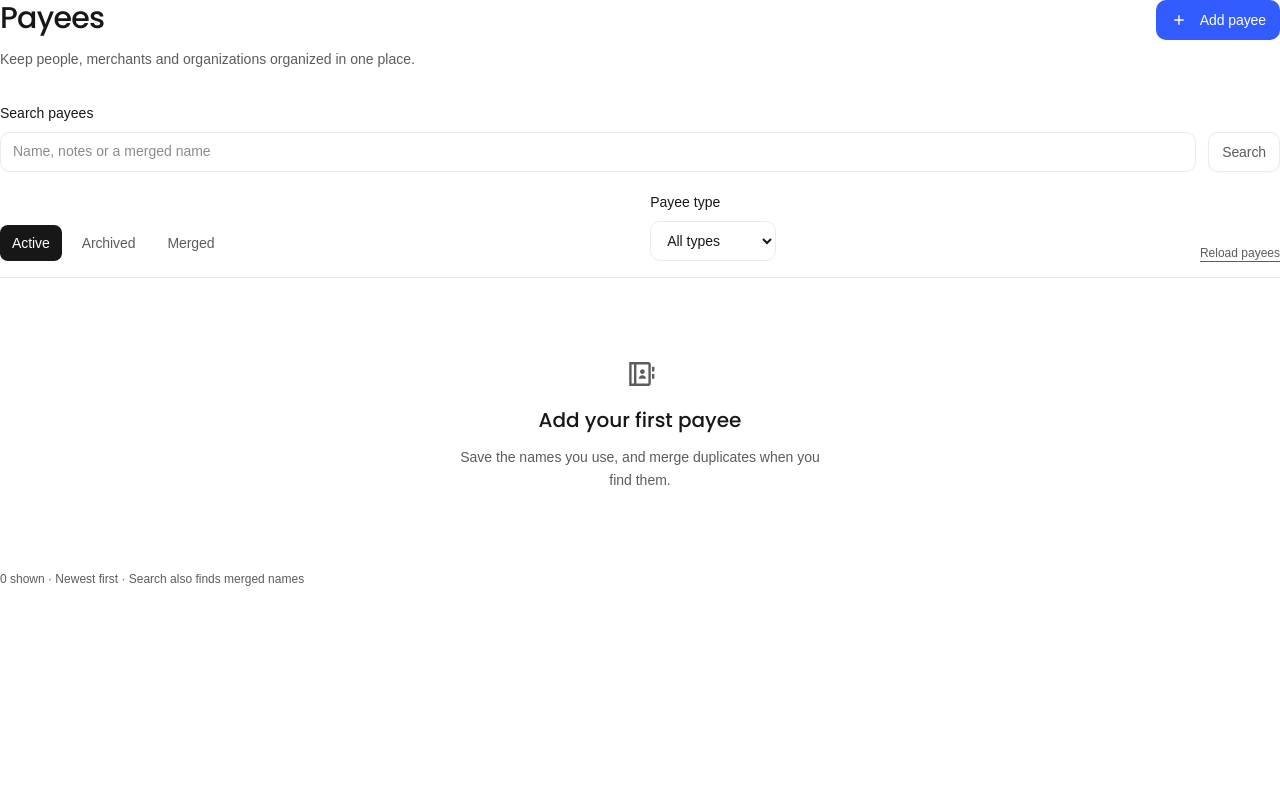
saving locks all fields and dismissal, and failed saves retain the draft
Click the button "Add payee": point(1218, 20) [1156,0,1279,40]
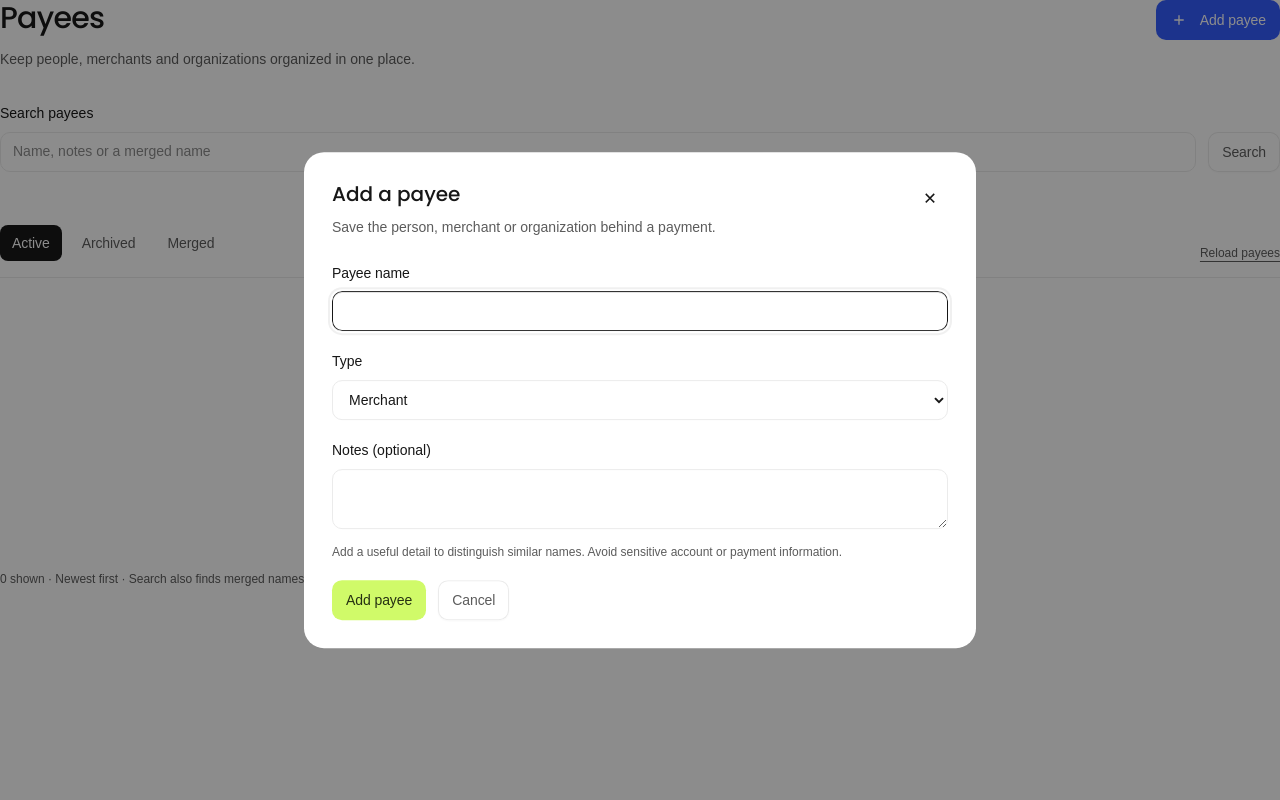
In the field labelled "Payee name": point(640, 311) [344,291,936,331], type "Target"
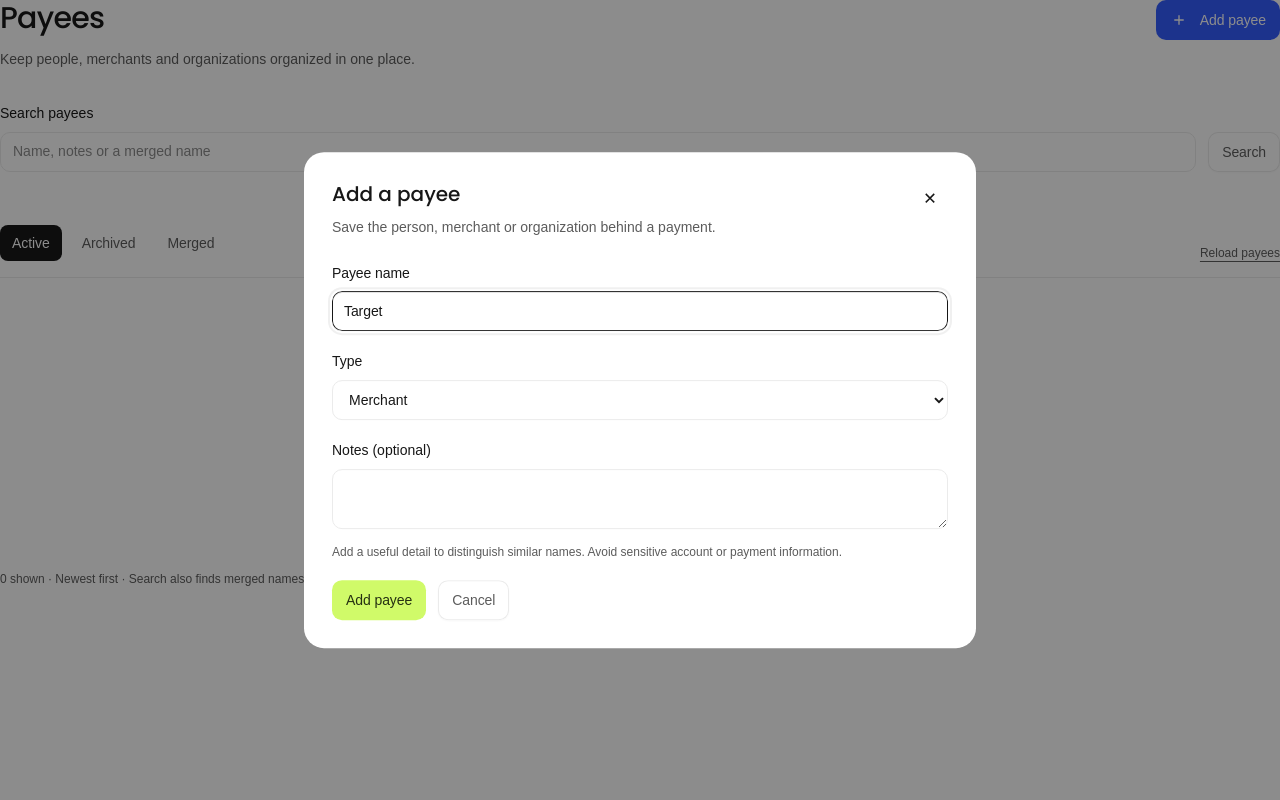
In the text box labelled "Notes (optional)": point(640, 499) [332,469,948,529], type "Draft notes"
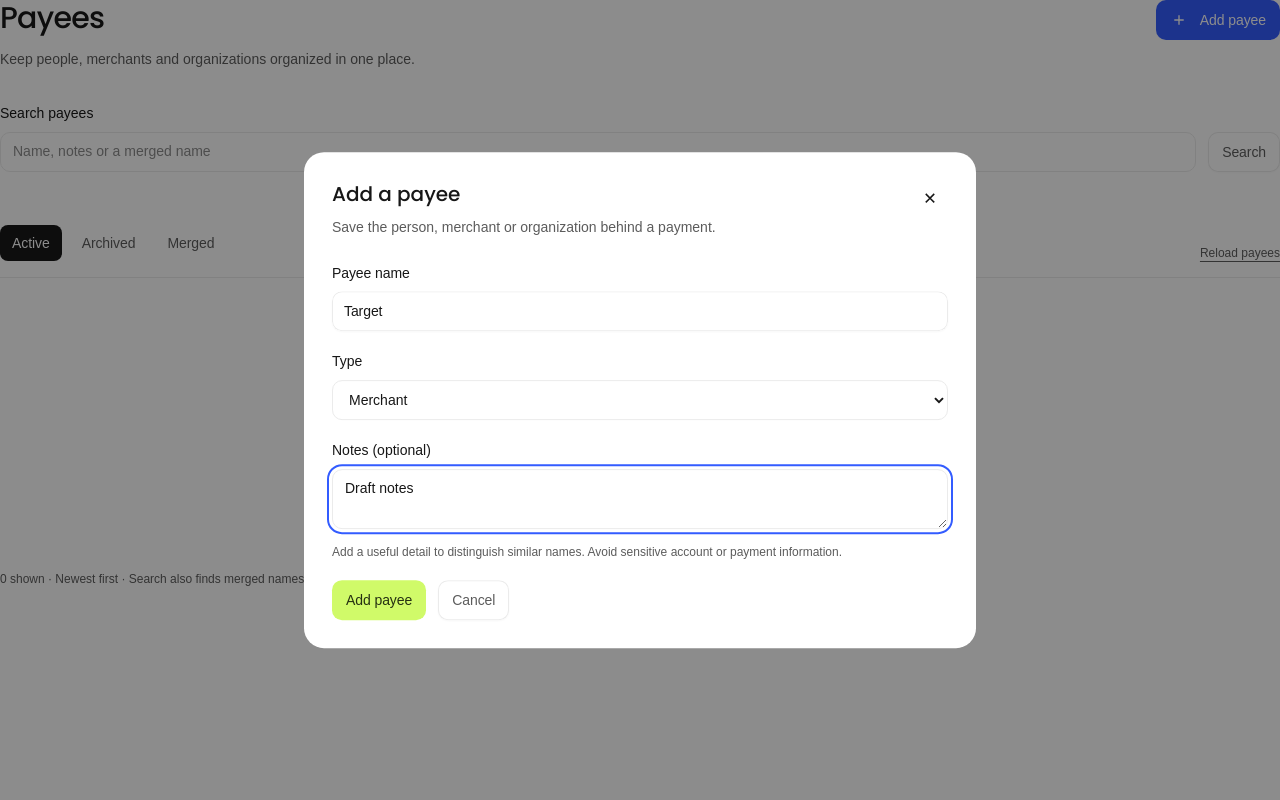
Click the button "Add payee": point(379, 600) [332,580,426,620]
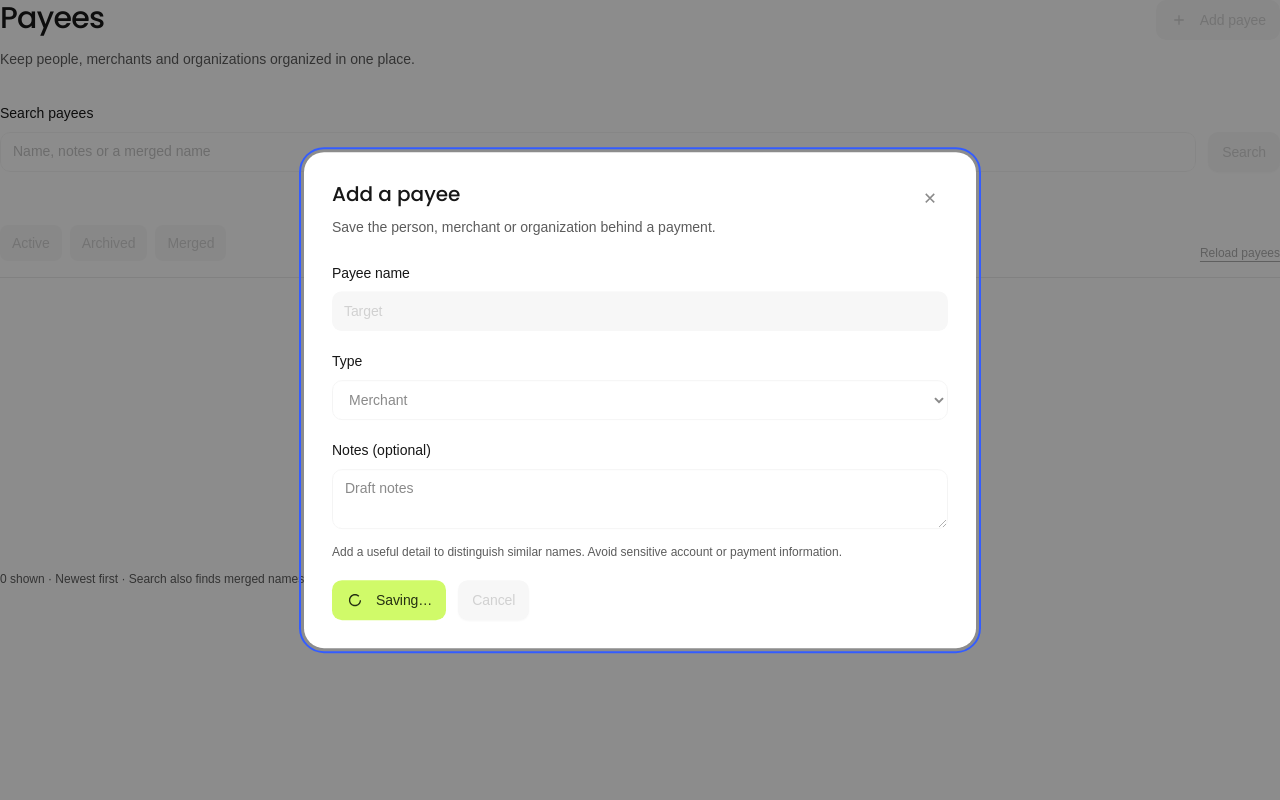
Check: the button "Saving…" is disabled, box [332,580,446,620]
Check: the field labelled "Payee name" is disabled, box [344,291,936,331]
Check: the dropdown labelled "Type" is disabled, box [332,380,948,420]
Press Escape
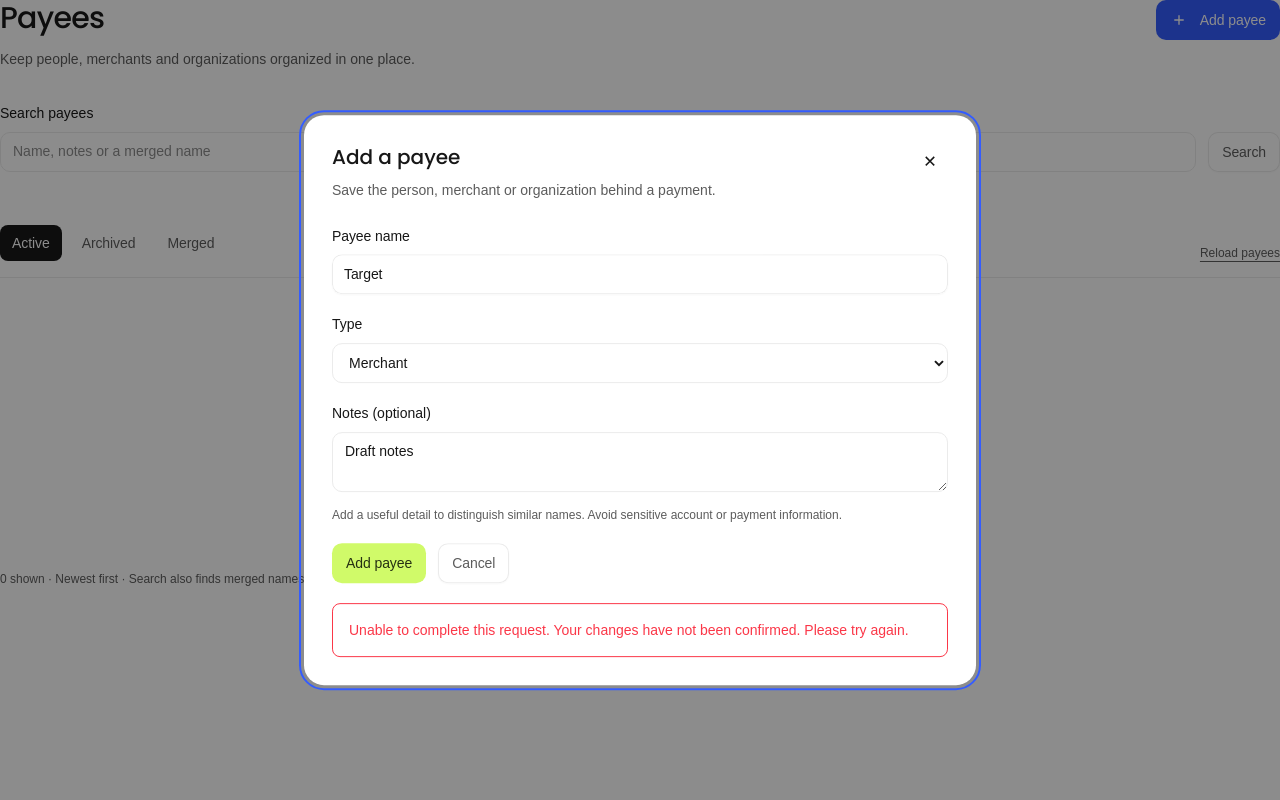
Check: the dialog is shown, box [304,115,976,685]
Check: the message shows "Your changes have not been confirmed", box [349,622,909,638]
Click the button "Add payee": point(379, 563) [332,543,426,583]
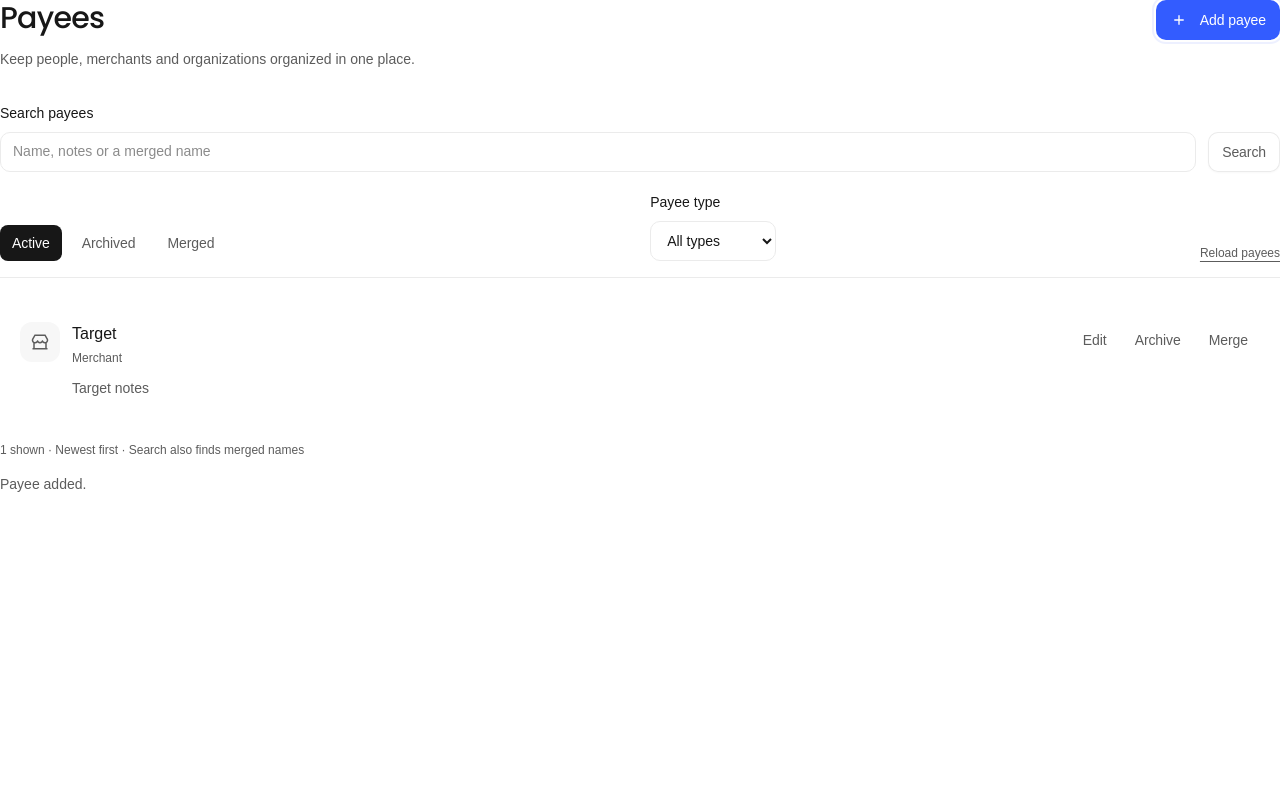
Check: the heading "Target" is shown, box [72,325,116,342]
Check: the dialog is gone
